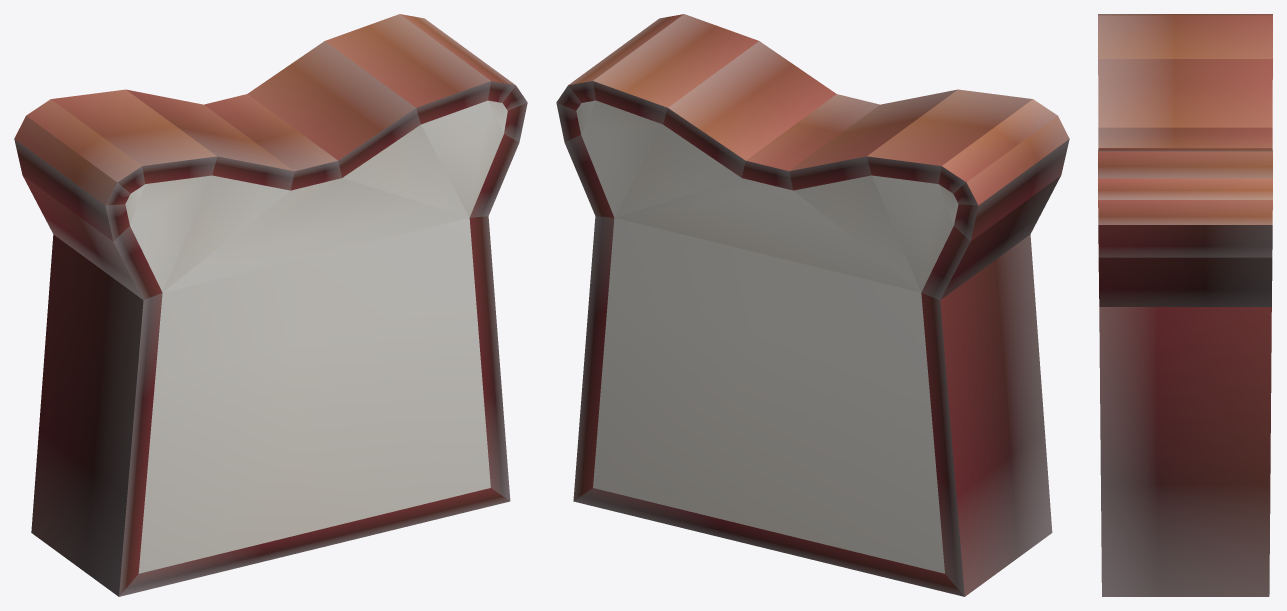
File: bread.fbx
3 renders of one model, left to right at view 1: azimuth 30°, elevation 25°; view 2: azimuth 150°, elevation 25°; view 3: azimuth 270°, elevation 25°, orthographic. The views are drawn at different scales.
Visible parts, largest first — view 1: bread; view 2: bread; view 3: bread.
Boxes of the visible parts, left/top/right/bottom form: bread: left=14, top=14, right=527, bottom=596; bread: left=556, top=14, right=1069, bottom=596; bread: left=1098, top=14, right=1272, bottom=596.
Size of the model in its own units: 108 by 104 by 40.38.
